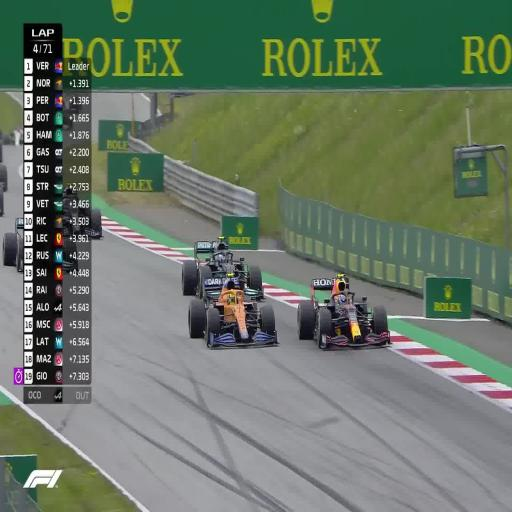f1_car: (298, 274, 390, 348), (188, 274, 278, 347), (182, 236, 263, 298), (61, 187, 102, 238), (2, 218, 25, 272), (61, 237, 77, 271), (55, 246, 60, 252), (48, 254, 50, 256), (27, 233, 28, 234), (59, 242, 60, 242)
